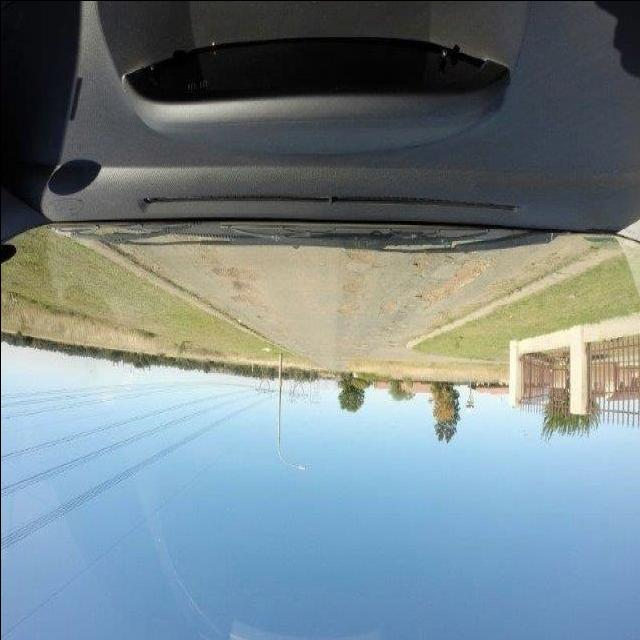lubang: (414, 260, 488, 306), (215, 265, 261, 311), (344, 245, 374, 267)
